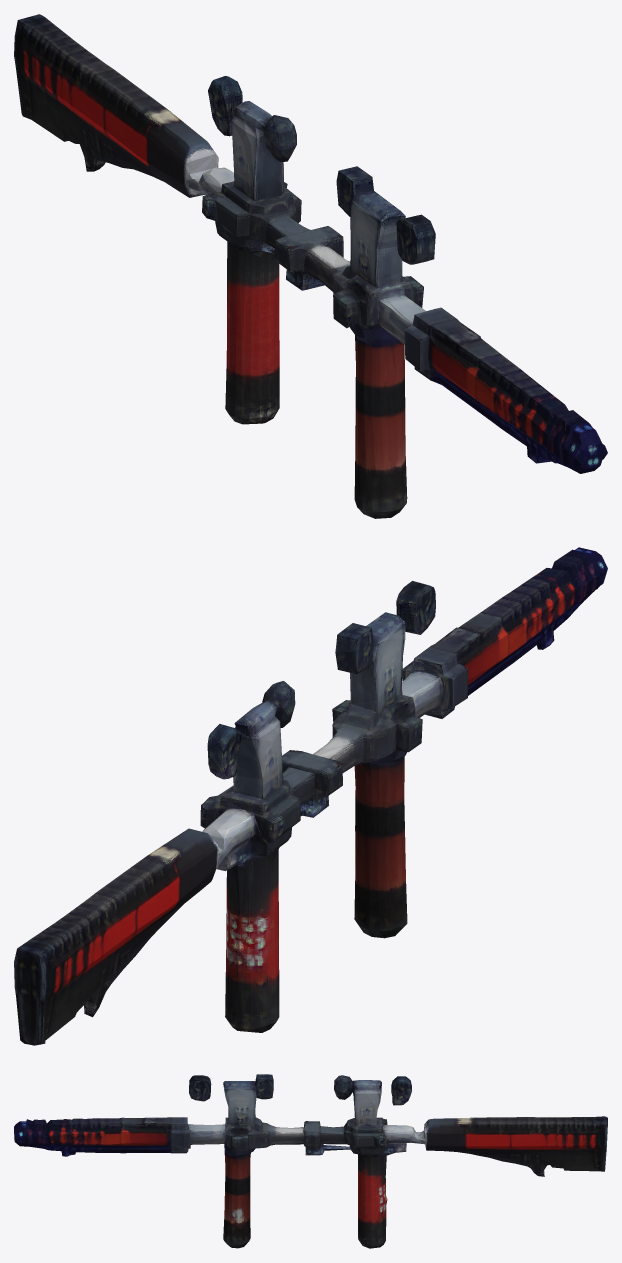
File: danger_mark16.glb
3 views of the same model, one above another, from view 1: azimuth 30°, elevation 25°; view 2: azimuth 150°, elevation 25°; view 3: azimuth 270°, elevation 25° (orthographic). The views are drawn at different scales.
Parts seen in each view (by area): view 1: world; view 2: world; view 3: world.
Boxes of the visible parts, box(x1,y1,x2,y2) form: world: box(14, 14, 607, 518); world: box(14, 547, 607, 1045); world: box(14, 1074, 607, 1248).
Bounding box in the file's own units: 0.0798 × 0.3125 × 0.9968.
1 material, 1 textured.
